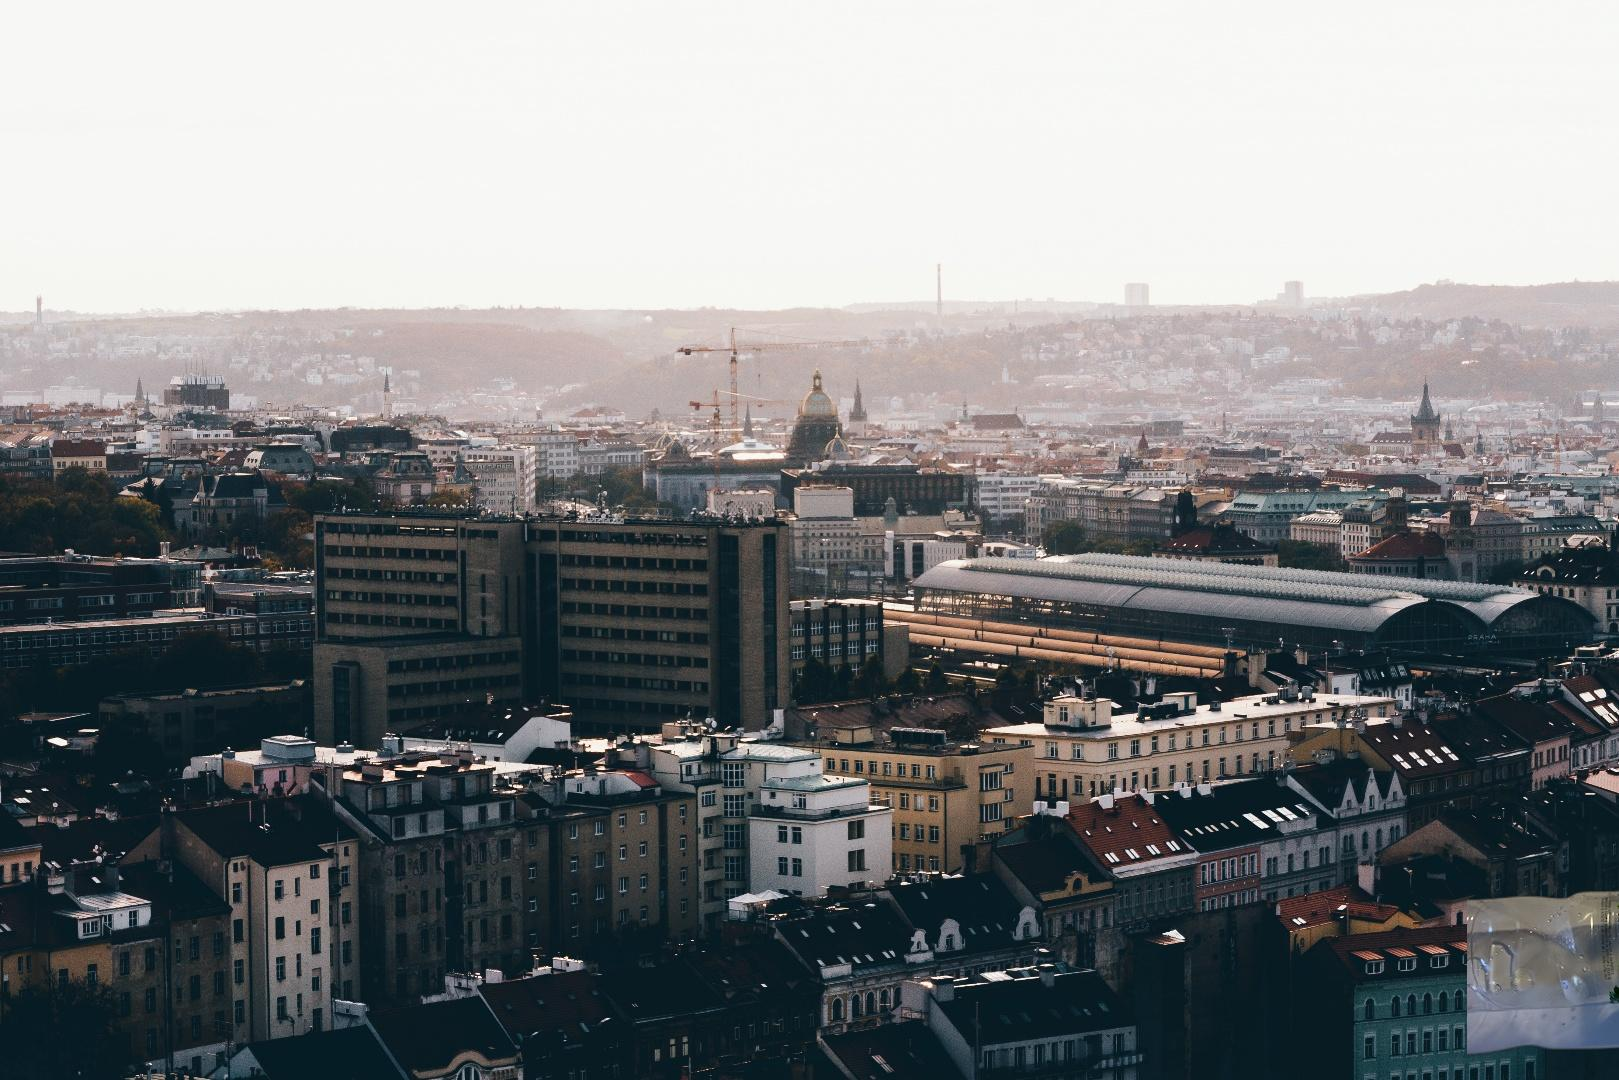plastic-bottles: (1467, 877, 1619, 1060)
